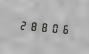eight: (28, 18, 37, 33), (38, 19, 47, 34)
six: (58, 21, 67, 35)
two: (18, 17, 27, 32)
zero: (48, 20, 57, 35)
